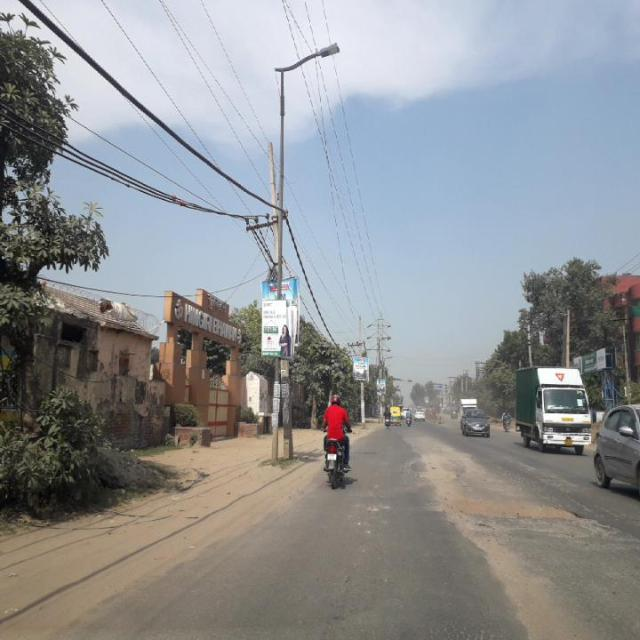Surface Erosion: (393, 402, 640, 640)
